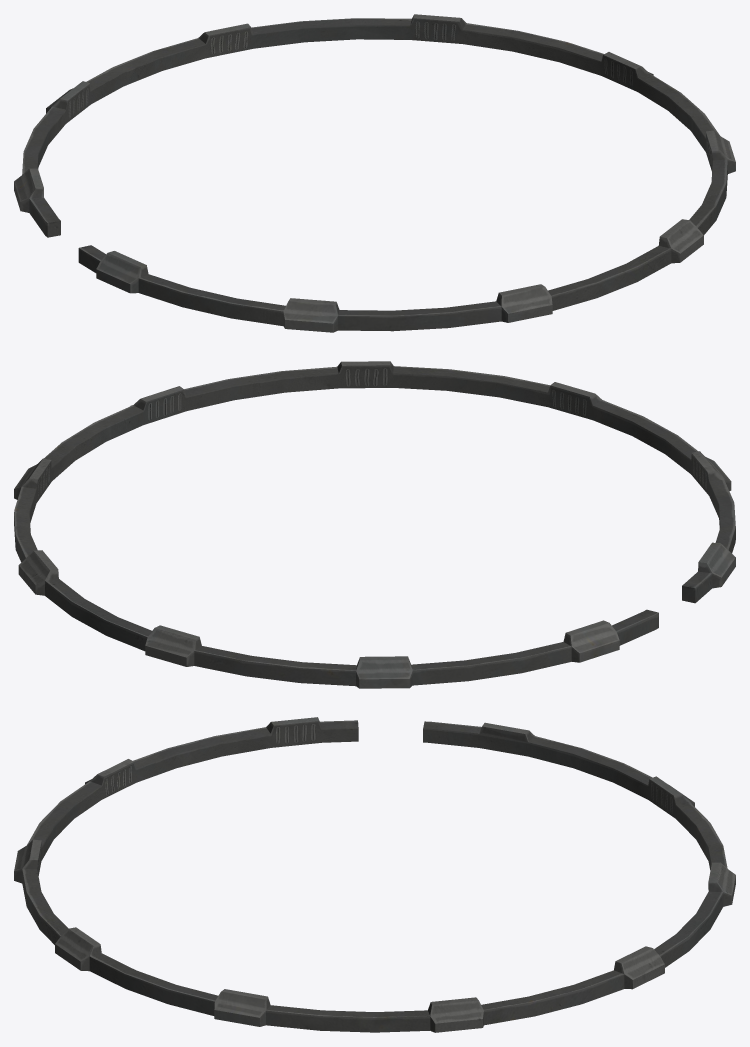
The model's file is Dome ring FBX.FBX.
3 views of the same model, one above another, from view 1: azimuth 30°, elevation 25°; view 2: azimuth 150°, elevation 25°; view 3: azimuth 270°, elevation 25° (orthographic). The views are drawn at different scales.
Visible parts, largest first — view 1: dome ring001; view 2: dome ring001; view 3: dome ring001.
Boxes of the visible parts, bbox=[...] form: dome ring001: bbox=[14, 14, 735, 332]; dome ring001: bbox=[14, 361, 735, 688]; dome ring001: bbox=[14, 717, 735, 1032].
Bounding box in the file's own units: 2100 × 73.44 × 2130.
Materials: 1 (1 with a texture image).
